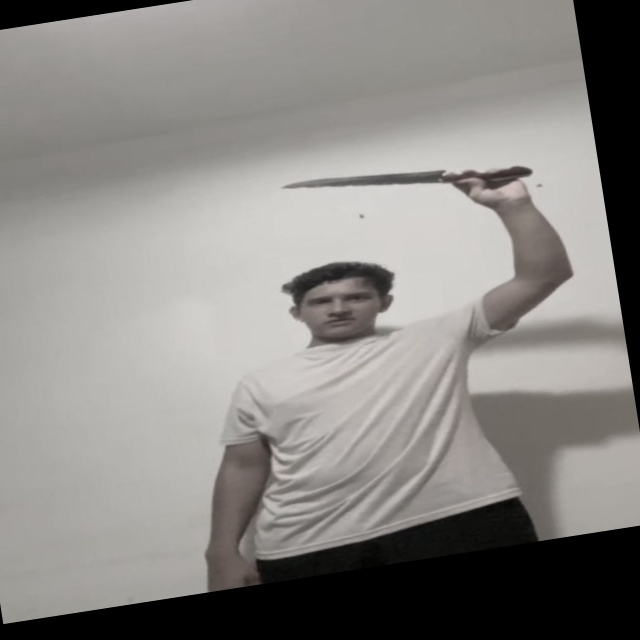Sharp-Object: (284, 157, 452, 207)
